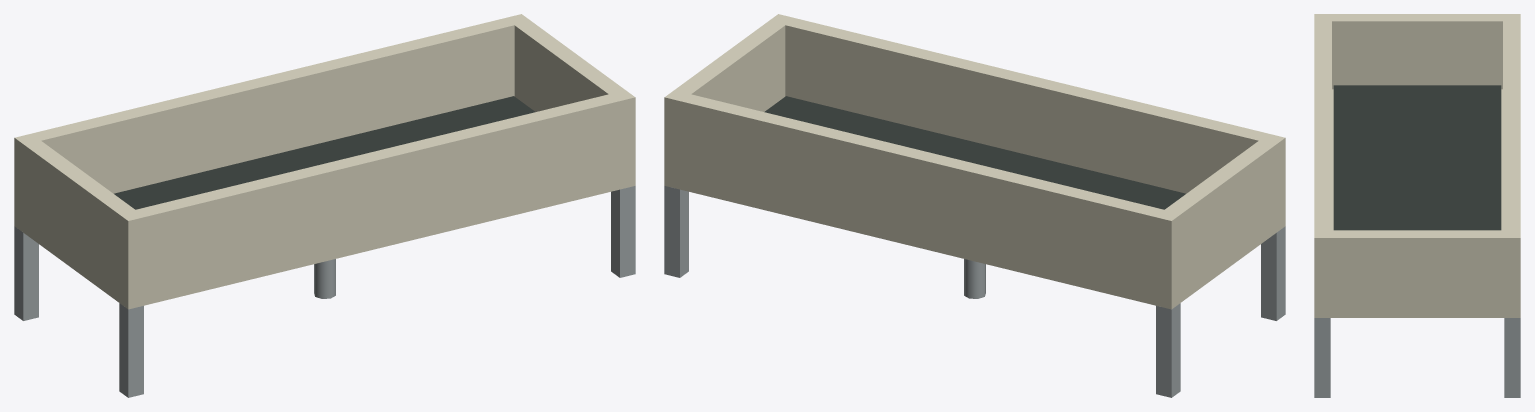
Rendered from rural-scavenging-settlements-rural-water-trough-a5f61574__26537.glb.
3 views of the same model, side by side, from view 1: azimuth 30°, elevation 25°; view 2: azimuth 150°, elevation 25°; view 3: azimuth 270°, elevation 25° (orthographic). The views are drawn at different scales.
Parts seen in each view (by area): view 1: rural-water-trough; view 2: rural-water-trough; view 3: rural-water-trough.
Boxes of the visible parts, x1=… form: rural-water-trough: x1=14, y1=14, x2=635, y2=397; rural-water-trough: x1=664, y1=14, x2=1285, y2=397; rural-water-trough: x1=1314, y1=14, x2=1520, y2=397.
Bounding box in the file's own units: 1.8 × 0.5999 × 0.6999.
